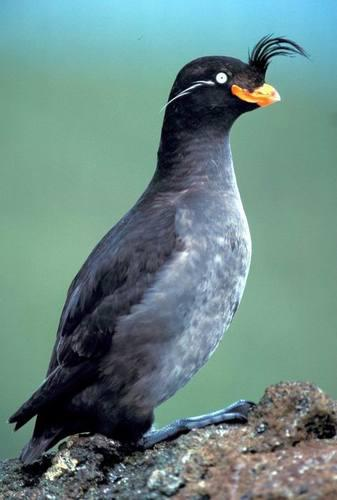005.Crested_Auklet: (11, 27, 305, 476)
